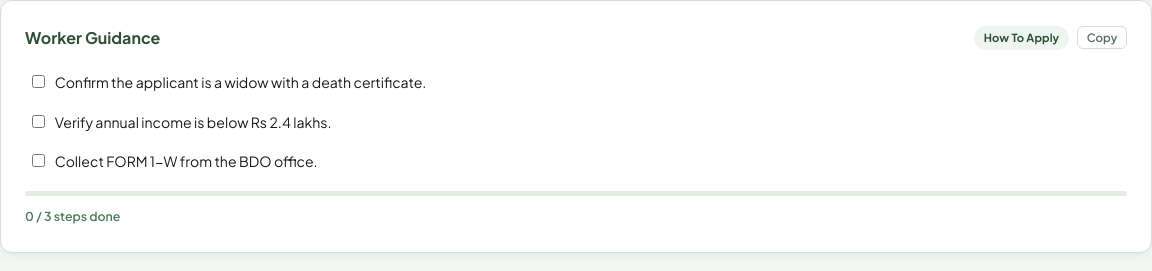
WorkerGuidanceCard › updates progress when checkbox is clicked
What coordinates should you click on to do the following:
click the checkbox labelled "Confirm the applicant is a widow with a death certificate."
I would click on:
 (39, 82)
Its box is [32, 75, 45, 88].
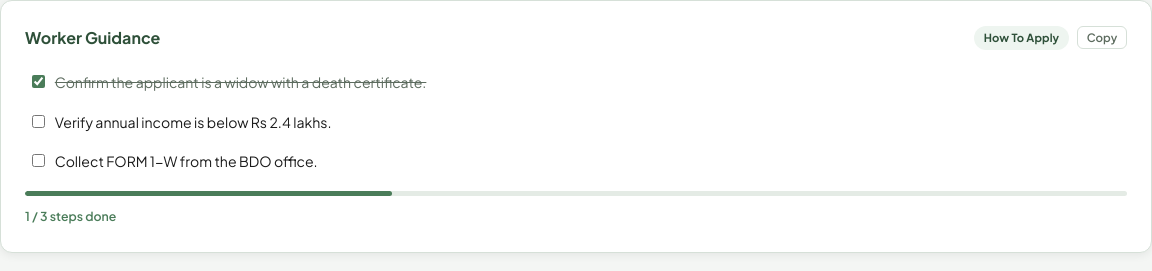
Expected: the text "1 / 3 steps done" is shown, [25, 208, 116, 224]
